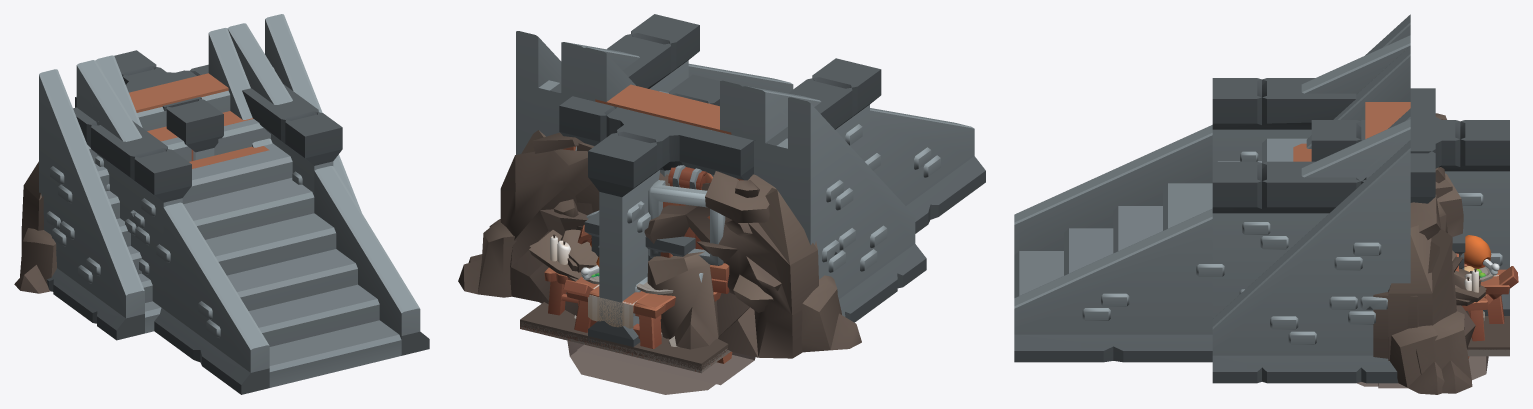
Rendered from dungeon.glb.
3 views of the same model, side by side, from view 1: azimuth 30°, elevation 25°; view 2: azimuth 150°, elevation 25°; view 3: azimuth 270°, elevation 25° (orthographic). The views are drawn at different scales.
Visible parts, largest first — view 1: stairs_long__stairs_long, stairs_wide__stairs_wide, stairs_walled__stairs_walled, wall_crossing__wall_crossing, stairs_narrow__stairs_narrow, rubble_large__rubble_large, stairs_wood__stairs_wood, stairs__stairs; view 2: rubble_large__rubble_large, stairs_wide__stairs_wide, wall_crossing__wall_crossing, rubble_half__rubble_half, stairs_long__stairs_long, stairs_walled__stairs_walled, floor_tile_big_grate__floor_tile_big_grate, ceiling_tile__ceiling_tile, stairs_narrow__stairs_narrow, box_stacked__box_stacked, wall_shelves__wall_shelves, stairs_wood__stairs_wood (+12 smaller); view 3: stairs_long__stairs_long, stairs_wide__stairs_wide, stairs_walled__stairs_walled, wall_crossing__wall_crossing, rubble_half__rubble_half, rubble_large__rubble_large, stairs_narrow__stairs_narrow, table_long_decorated_A__table_long_decorated_A, stairs_wood__stairs_wood, ceiling_tile__ceiling_tile, bed_decorated__bed_decorated, stairs__stairs (+2 smaller).
Part boxes in pixels (box(x1,y1,x2,y2)): stairs_long__stairs_long: box(76, 23, 429, 394); stairs_wide__stairs_wide: box(39, 14, 361, 340); stairs_walled__stairs_walled: box(73, 84, 342, 312); wall_crossing__wall_crossing: box(75, 50, 223, 159); stairs_narrow__stairs_narrow: box(95, 28, 272, 147); rubble_large__rubble_large: box(14, 161, 56, 293); stairs_wood__stairs_wood: box(129, 73, 269, 168); stairs__stairs: box(76, 66, 109, 190); rubble_large__rubble_large: box(468, 171, 861, 358); stairs_wide__stairs_wide: box(516, 31, 926, 322); wall_crossing__wall_crossing: box(559, 74, 753, 346); rubble_half__rubble_half: box(458, 130, 598, 315); stairs_long__stairs_long: box(561, 42, 985, 233); stairs_walled__stairs_walled: box(550, 14, 881, 161); floor_tile_big_grate__floor_tile_big_grate: box(528, 325, 729, 394); ceiling_tile__ceiling_tile: box(520, 302, 732, 370); stairs_narrow__stairs_narrow: box(584, 47, 742, 137); box_stacked__box_stacked: box(648, 165, 725, 282); wall_shelves__wall_shelves: box(559, 106, 744, 180); stairs_wood__stairs_wood: box(595, 84, 731, 134); stairs_long__stairs_long: box(1014, 35, 1410, 362); stairs_wide__stairs_wide: box(1212, 14, 1410, 383); stairs_walled__stairs_walled: box(1212, 78, 1368, 318); wall_crossing__wall_crossing: box(1311, 88, 1509, 315); rubble_half__rubble_half: box(1388, 179, 1485, 393); rubble_large__rubble_large: box(1373, 113, 1486, 394); stairs_narrow__stairs_narrow: box(1306, 46, 1410, 148); table_long_decorated_A__table_long_decorated_A: box(1464, 235, 1509, 323); stairs_wood__stairs_wood: box(1293, 102, 1410, 161); ceiling_tile__ceiling_tile: box(1467, 316, 1509, 358); bed_decorated__bed_decorated: box(1462, 268, 1487, 341); stairs__stairs: box(1357, 129, 1410, 180).
Size of the model in its own units: 8.13 by 6.3 by 10.18.
1 material, 1 textured.
